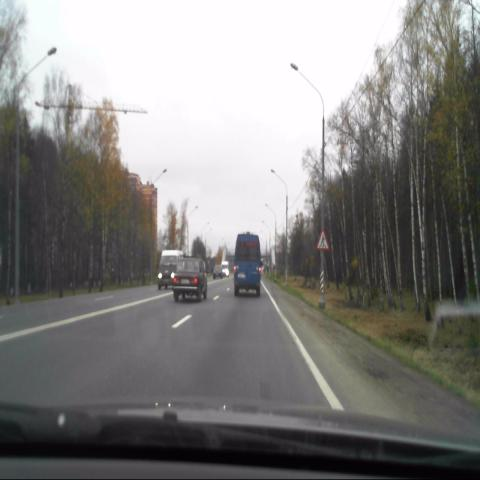1_22: (316, 229, 329, 251)
